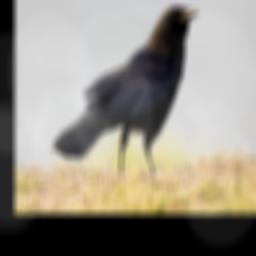Crow: (52, 5, 201, 177)
